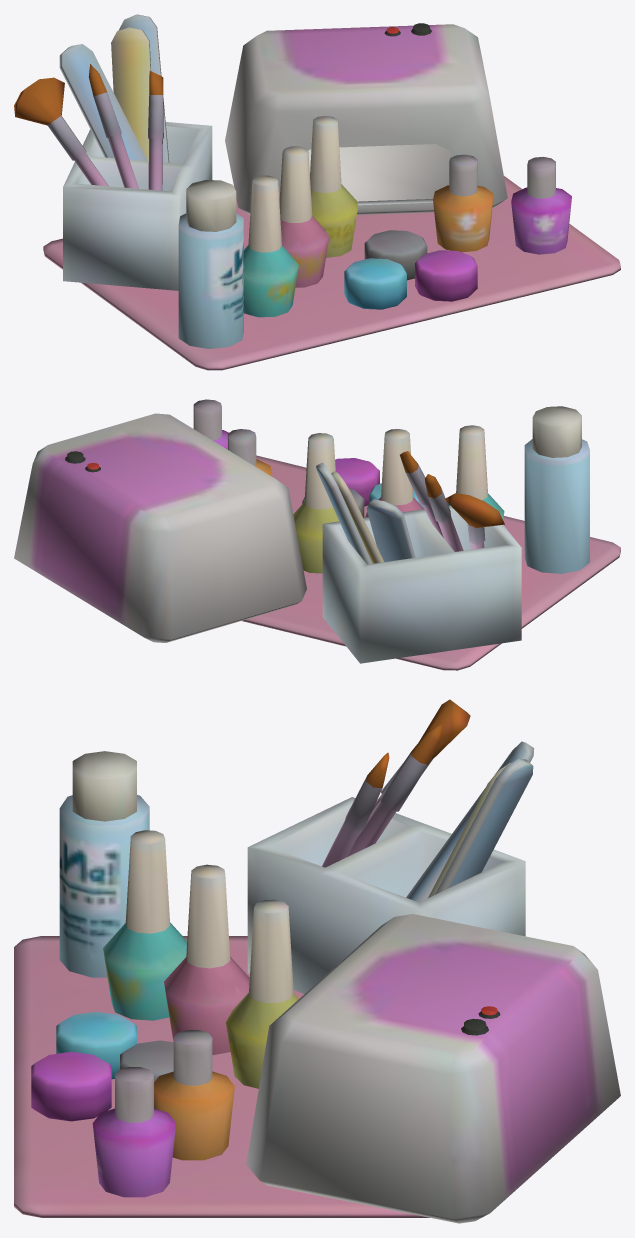
3 renders of one model, top to bottom at view 1: azimuth 30°, elevation 25°; view 2: azimuth 150°, elevation 25°; view 3: azimuth 270°, elevation 25°, orthographic. The views are drawn at different scales.
Bounding box in the file's own units: 9.23 × 3.54 × 7.46.
Materials: 1 (1 with a texture image).
